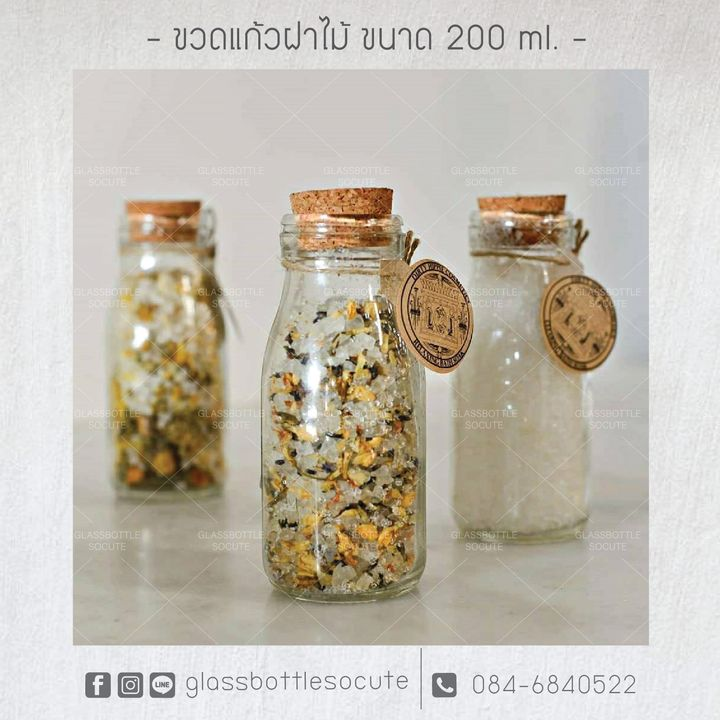glass_bottle: (253, 183, 436, 609), (443, 188, 598, 549), (104, 186, 234, 515)
